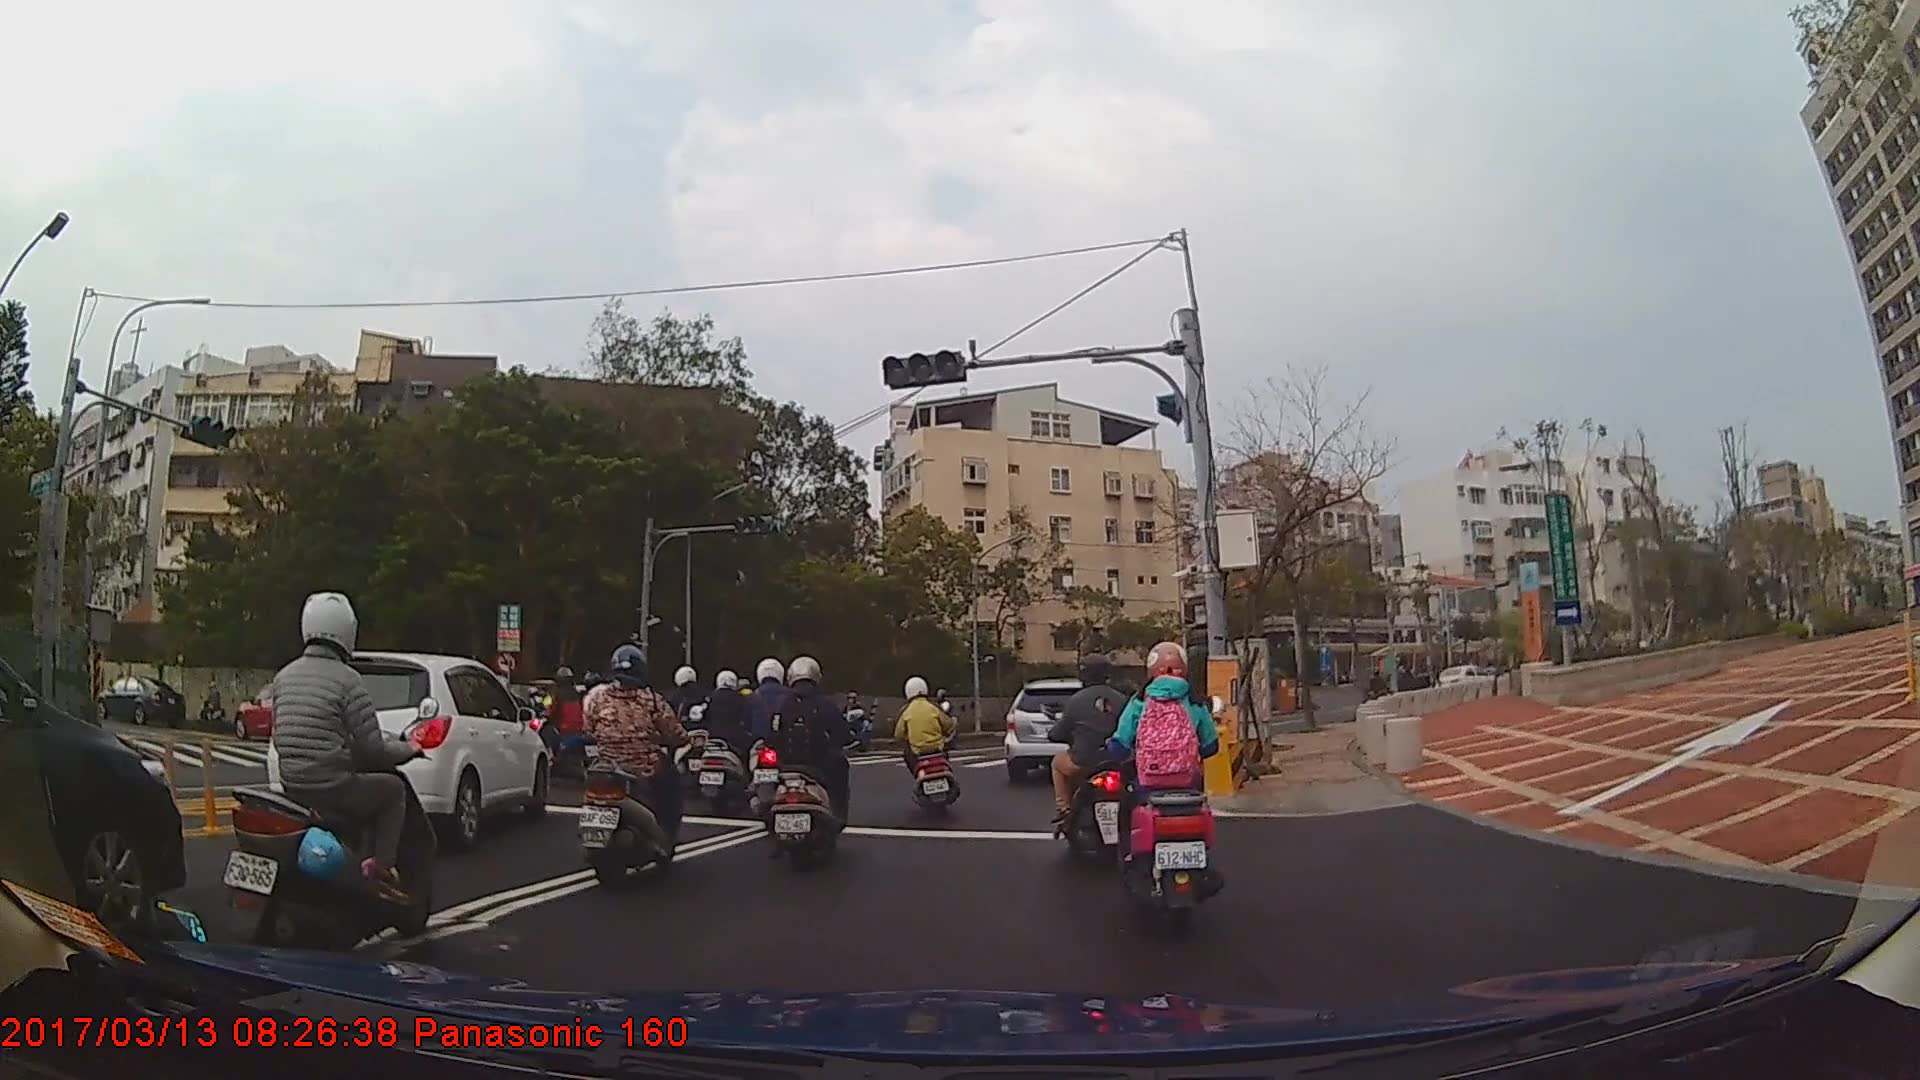rider: (223, 593, 440, 964), (1111, 640, 1224, 921), (575, 646, 692, 899), (1044, 653, 1145, 865), (765, 655, 856, 875), (736, 656, 803, 830), (890, 675, 967, 820), (523, 667, 601, 787), (697, 672, 763, 811), (650, 663, 714, 795), (836, 694, 872, 752)
vehicle: (261, 652, 547, 848), (0, 656, 185, 949), (1003, 678, 1139, 781), (232, 678, 334, 740), (83, 674, 185, 725)
